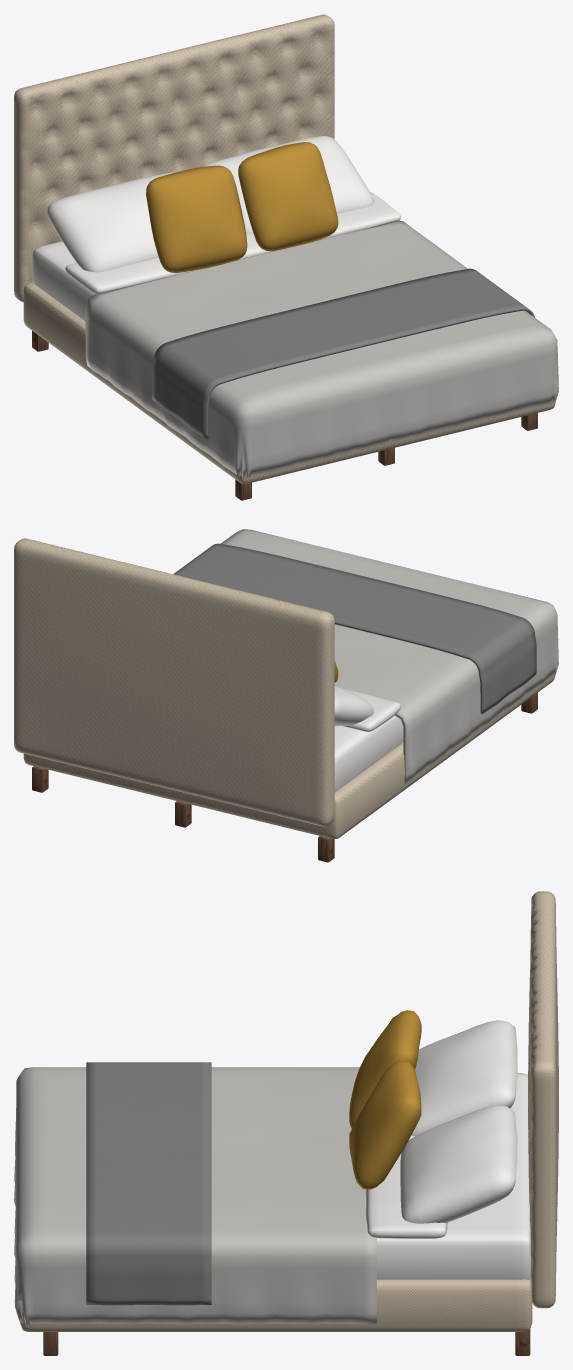
The model's file is cama_capitone_160.glb.
3 renders of one model, top to bottom at view 1: azimuth 30°, elevation 25°; view 2: azimuth 150°, elevation 25°; view 3: azimuth 270°, elevation 25°, orthographic. The views are drawn at different scales.
Parts seen in each view (by area): view 1: cama_capitone_160; view 2: cama_capitone_160; view 3: cama_capitone_160.
Part boxes in pixels (x1,y1,x2,y2): cama_capitone_160: (14, 14, 558, 500); cama_capitone_160: (14, 529, 558, 862); cama_capitone_160: (14, 891, 558, 1355).
Bounding box in the file's own units: 1.78 × 1.31 × 2.18.
Materials: 6 (6 with a texture image).
